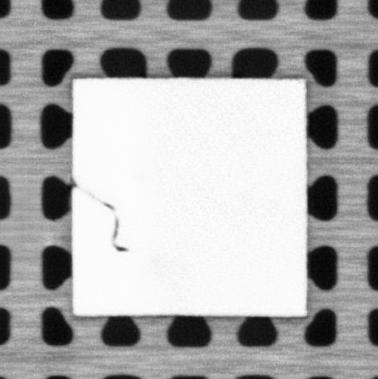DIE_INK: (73, 180, 128, 252)
